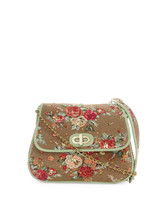bag: (24, 99, 143, 186)
